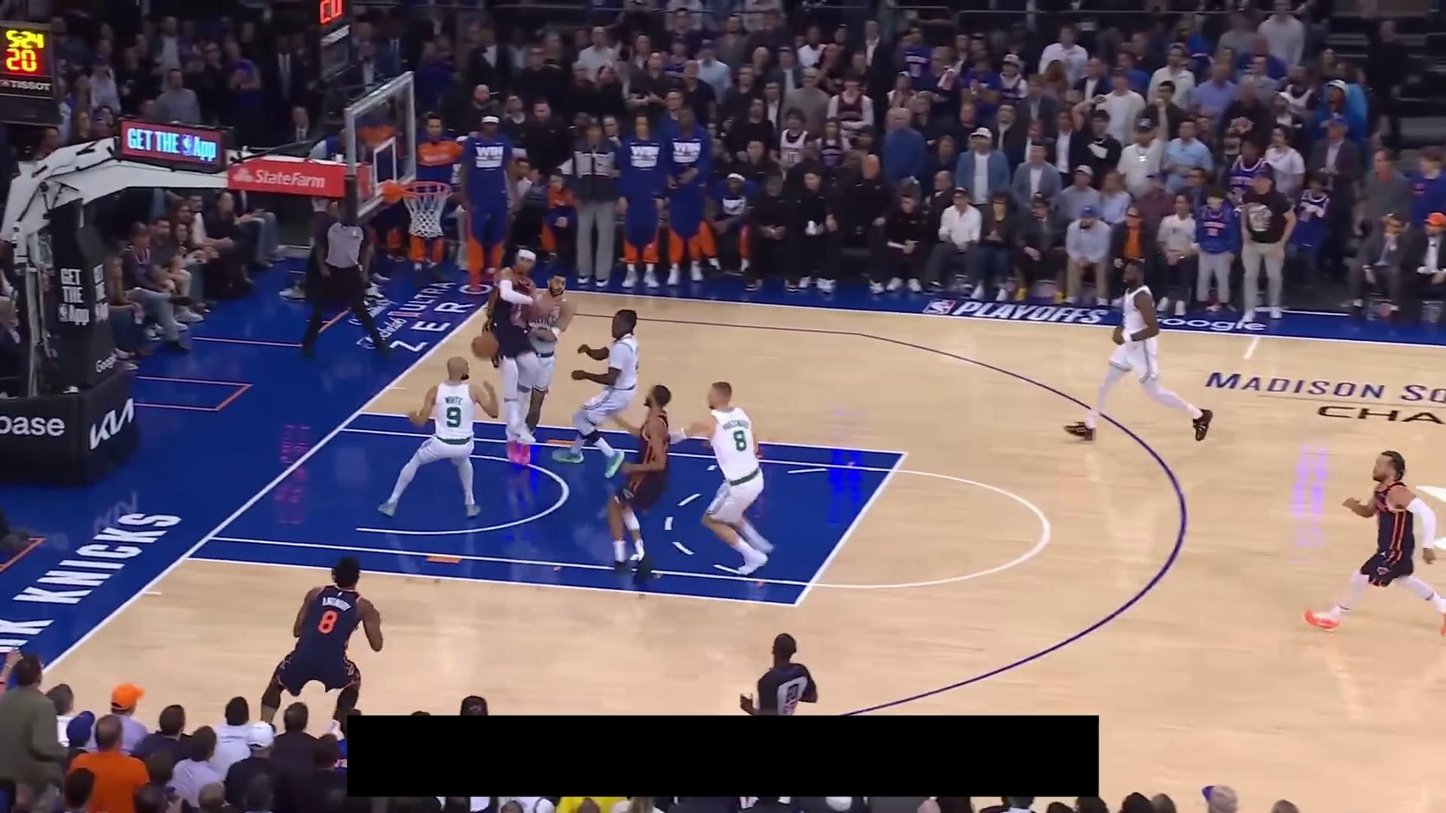ball: (470, 329, 501, 361)
number: (318, 608, 339, 635), (445, 405, 461, 430), (733, 428, 748, 452)
player: (1063, 256, 1217, 443), (1305, 446, 1446, 636), (258, 557, 387, 727), (663, 379, 775, 574), (377, 354, 500, 522), (546, 305, 651, 480), (498, 269, 581, 468), (600, 382, 676, 584), (480, 244, 550, 452)
referee: (297, 207, 389, 355), (739, 629, 819, 715)
rim: (400, 179, 454, 201)
